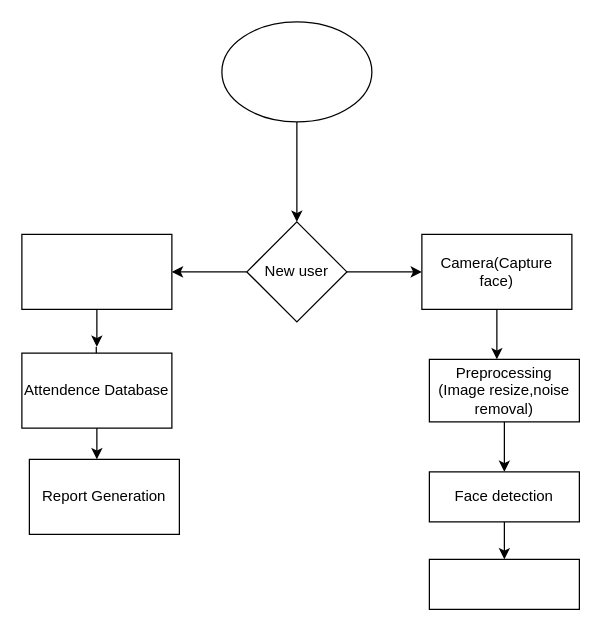
This 601x631 diagram has some shape labels left out. Each missing label, with the box of its shape:
Face Recoginition: (428, 558, 579, 609)
Match Found? Yes No: (21, 233, 172, 309)
Start: (221, 21, 372, 122)
